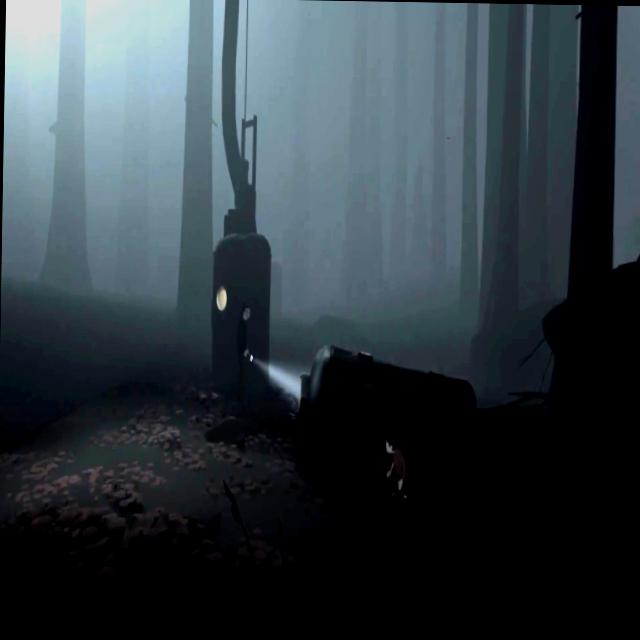boy: (384, 430, 409, 504)
human: (236, 302, 253, 402)
